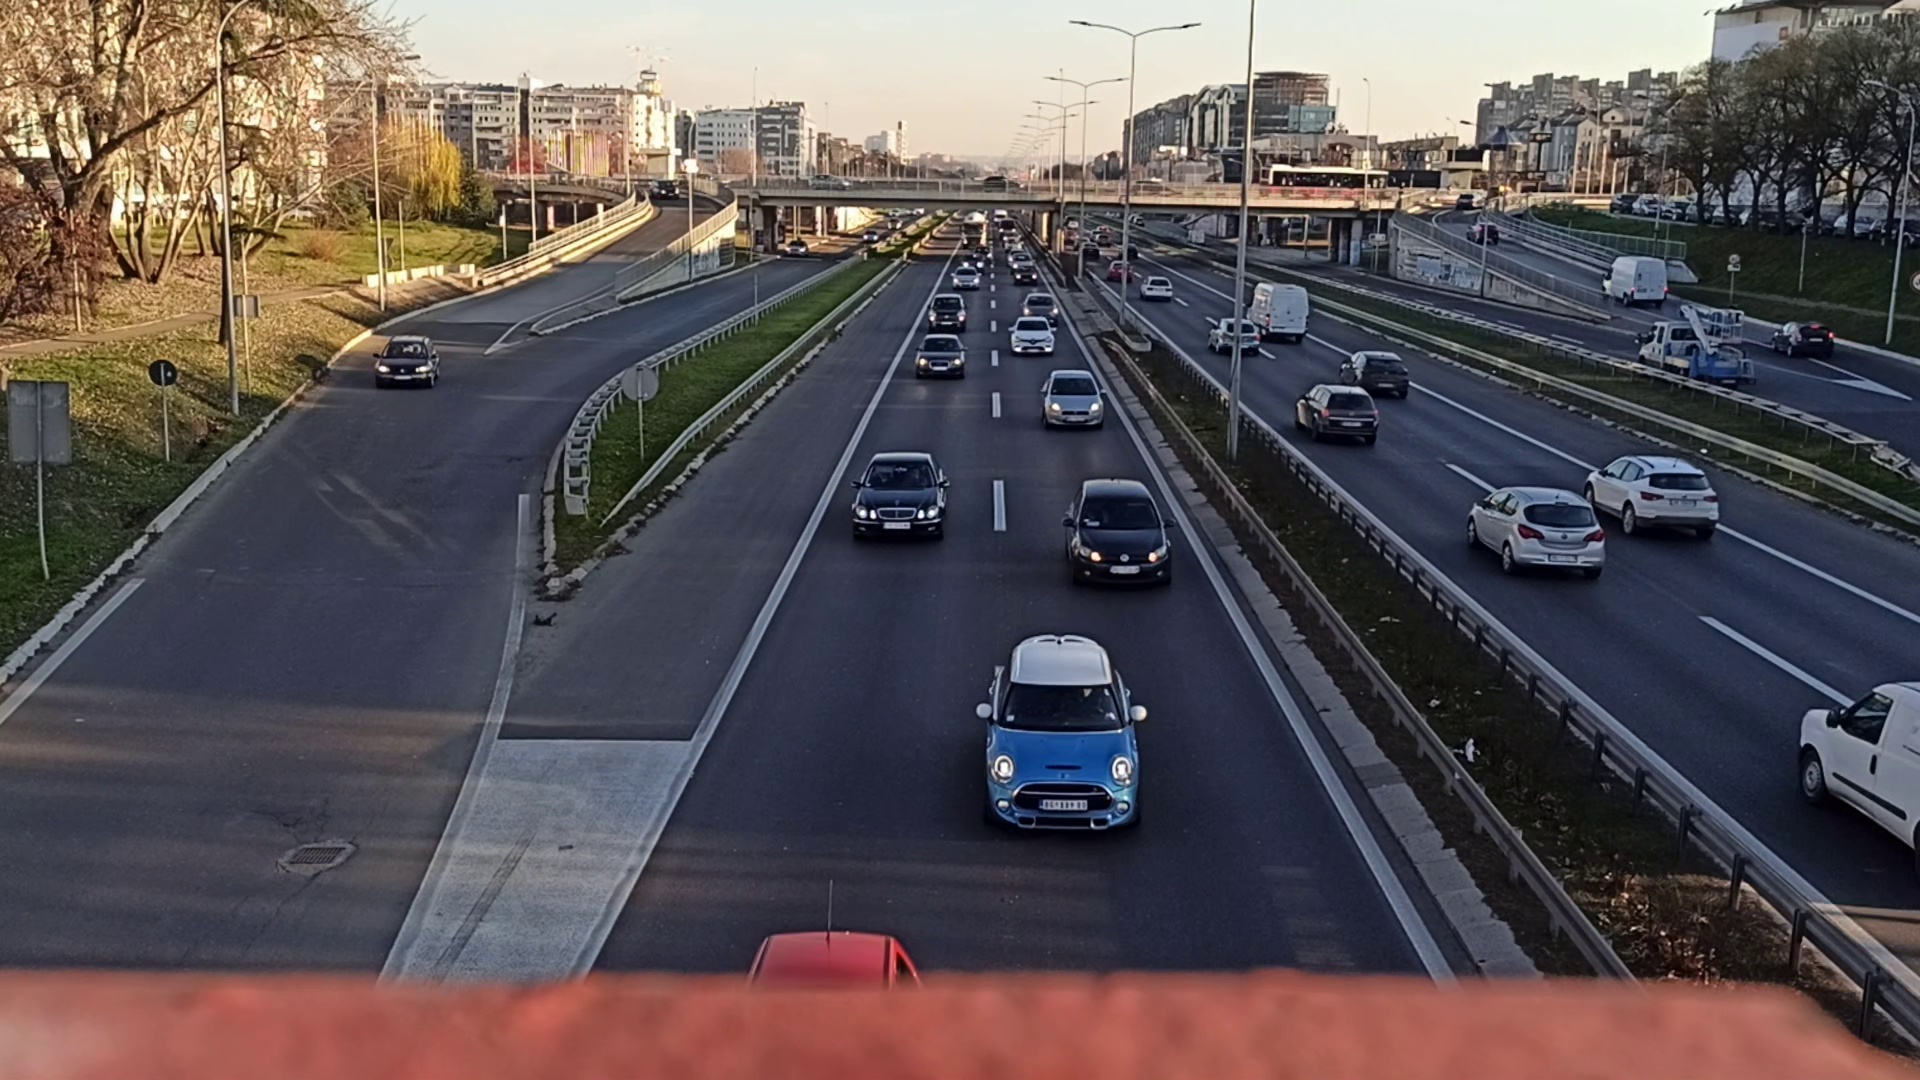car: (986, 636, 1139, 843), (1466, 488, 1605, 578), (1585, 454, 1716, 549), (1064, 483, 1174, 589), (851, 452, 948, 543), (1295, 386, 1378, 439), (1042, 371, 1104, 435), (375, 334, 440, 392), (1341, 351, 1408, 400), (915, 334, 965, 378), (1209, 319, 1261, 353), (1010, 316, 1055, 353), (928, 294, 964, 324), (1025, 293, 1056, 319), (1141, 274, 1171, 299), (953, 268, 978, 287), (1013, 266, 1035, 284)
van: (1247, 284, 1309, 338)
